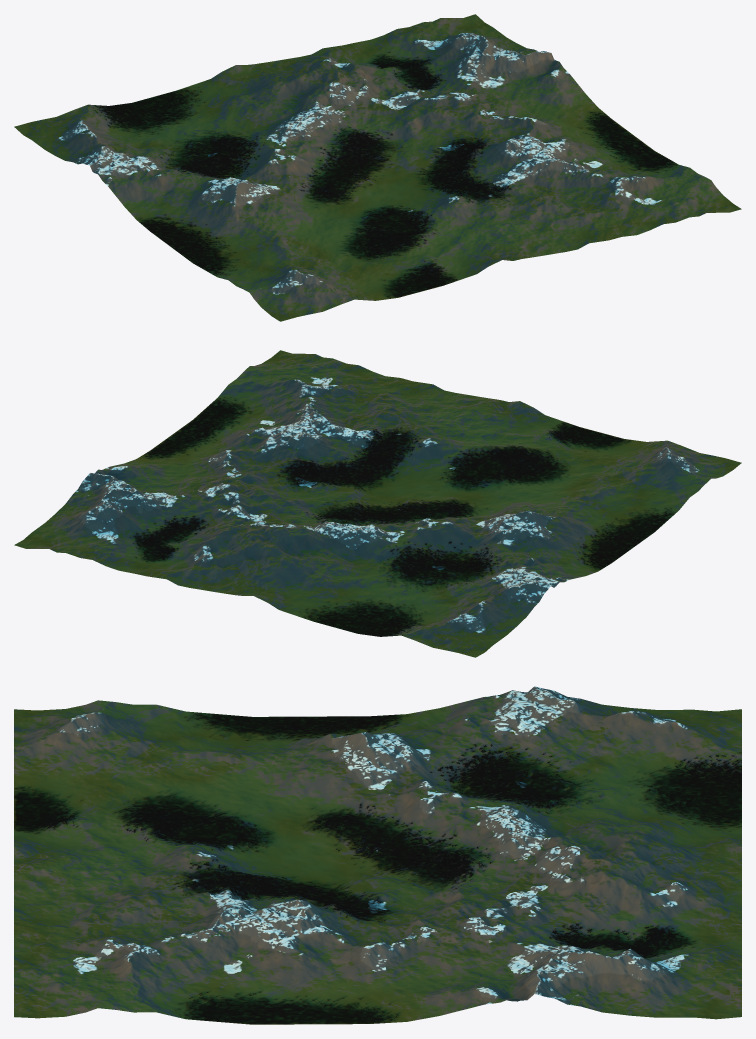
Rendered from land.glb.
3 renders of one model, top to bottom at view 1: azimuth 30°, elevation 25°; view 2: azimuth 150°, elevation 25°; view 3: azimuth 270°, elevation 25°, orthographic. The views are drawn at different scales.
Parts seen in each view (by area): view 1: Landscape.003; view 2: Landscape.003; view 3: Landscape.003.
Part boxes in pixels (bbox=[...]): Landscape.003: bbox=[14, 14, 741, 321]; Landscape.003: bbox=[14, 350, 741, 657]; Landscape.003: bbox=[14, 686, 741, 1024].
Size of the model in its own units: 1043 by 69.14 by 1042.
1 material, 1 textured.
